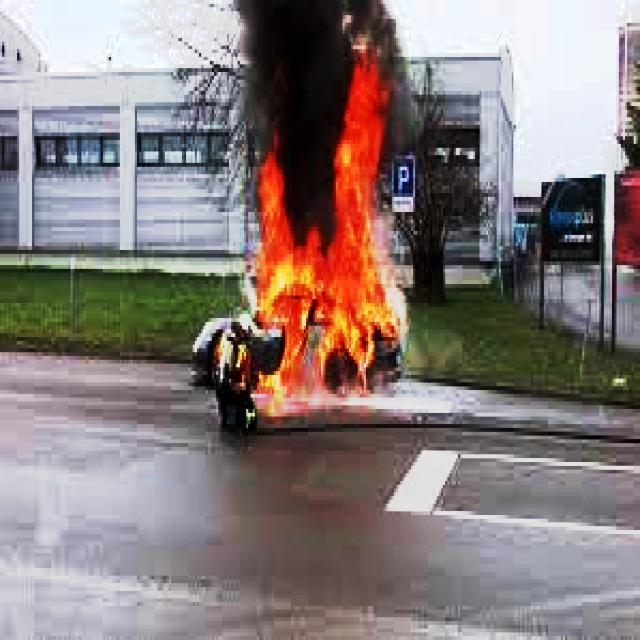api: (222, 47, 406, 399)
